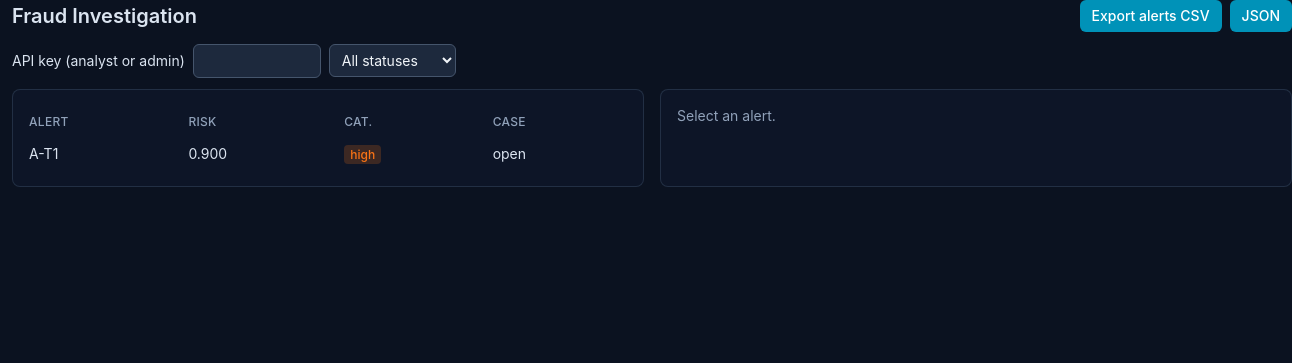
Investigations › shows the API error when unauthorized
The width and height of the screenshot is (1292, 363).
Step 1. Click the text "A-T1" → x=44, y=154, box [29,138,188,170]
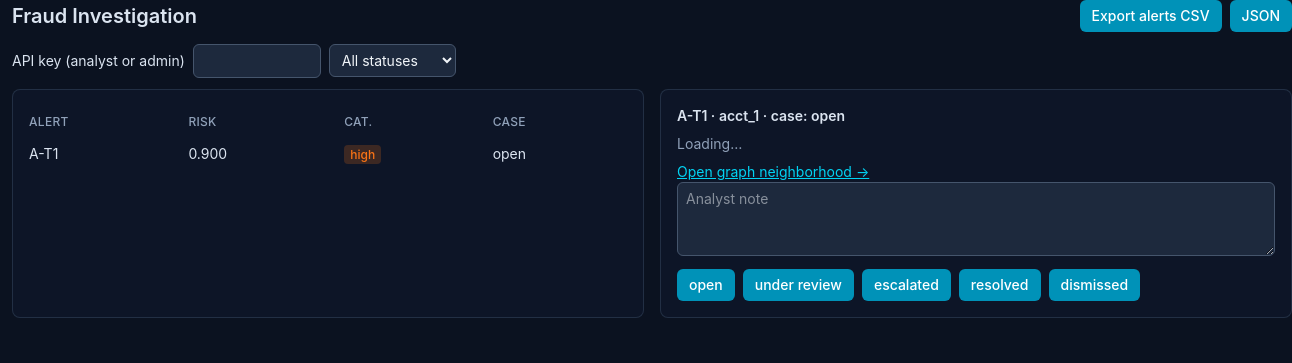
Step 2. Click the button "resolved" → x=1000, y=285, box [959,269,1040,301]
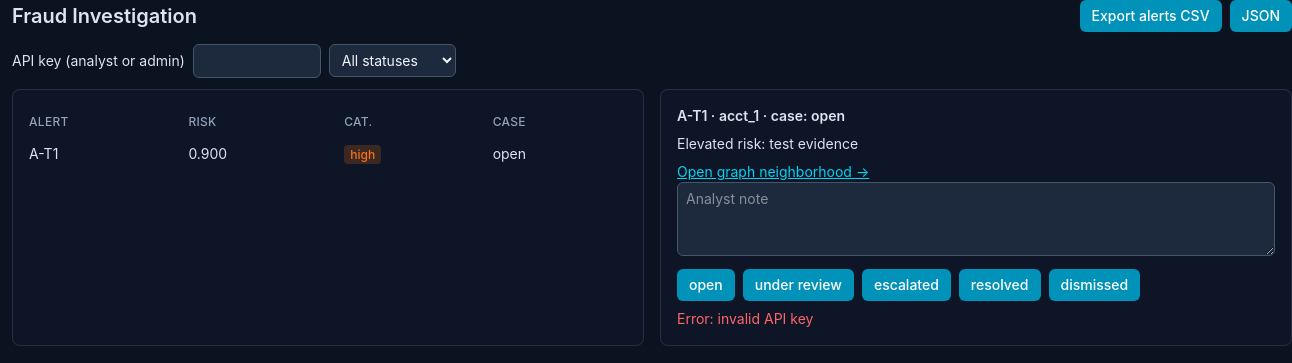
Expected: the text "Error: invalid API key" is shown, [677,310,813,327]
